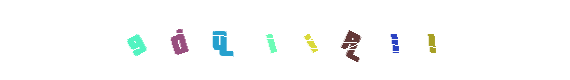1: (205, 0, 285, 80), (355, 0, 435, 80)
9: (141, 0, 221, 80)
D: (149, 0, 229, 80)
I: (245, 0, 325, 80), (335, 0, 415, 80)
Q: (181, 0, 261, 80)
R: (311, 0, 391, 80)
